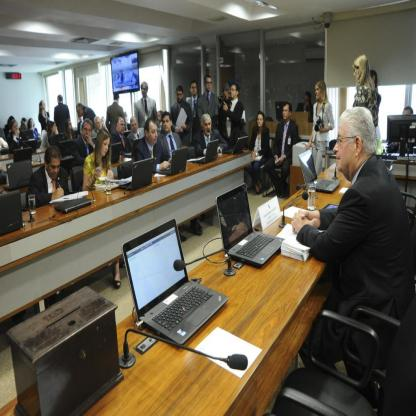board: (126, 222, 223, 359), (215, 182, 285, 268), (298, 150, 341, 194), (119, 157, 154, 191), (0, 189, 24, 235), (3, 161, 34, 190), (159, 146, 188, 177), (192, 137, 221, 164), (54, 196, 94, 212), (223, 134, 249, 156), (124, 139, 140, 159), (12, 148, 31, 162), (60, 157, 74, 175), (110, 143, 121, 164), (51, 133, 64, 148)
